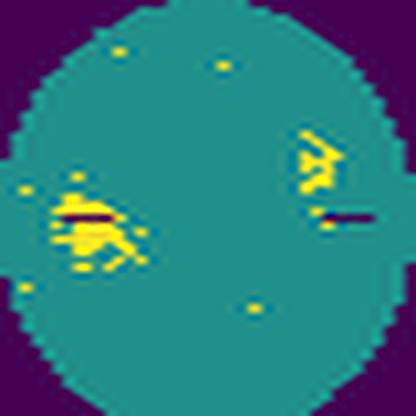Loc: (51, 193, 150, 278), (296, 128, 345, 197)
